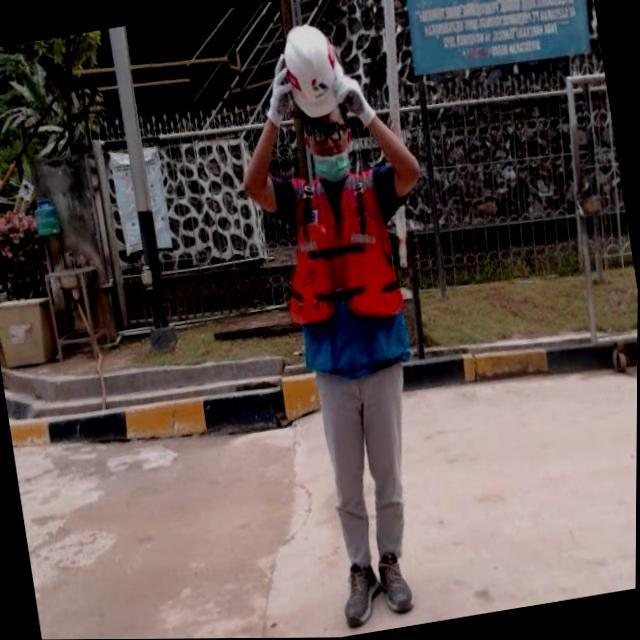goggles_on: (302, 118, 354, 148)
